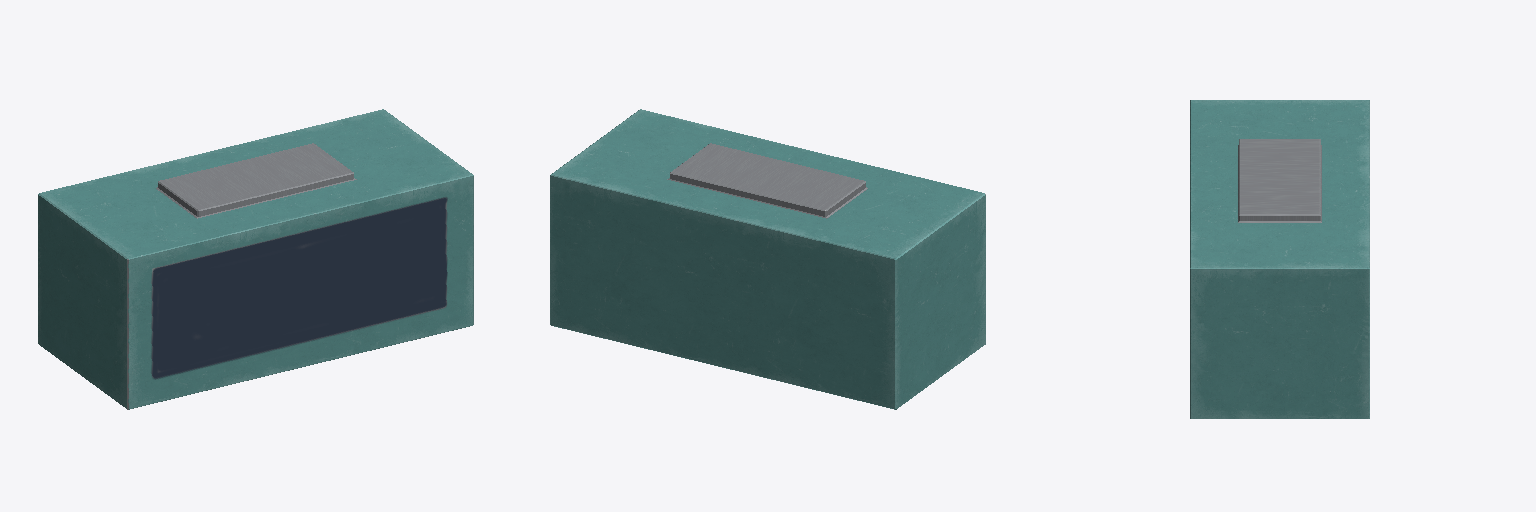
The picture shows the model from 3 angles: view 1: azimuth 30°, elevation 25°; view 2: azimuth 150°, elevation 25°; view 3: azimuth 270°, elevation 25°; orthographic projection.
Visible parts, largest first — view 1: alarm_clock_01; view 2: alarm_clock_01; view 3: alarm_clock_01.
Boxes of the visible parts, box(x1,y1,x2,y2) form: alarm_clock_01: box(38, 109, 473, 409); alarm_clock_01: box(550, 109, 985, 409); alarm_clock_01: box(1190, 100, 1369, 418).
Size of the model in its own units: 0.1601 by 0.07 by 0.072.
1 materials, 1 textured.